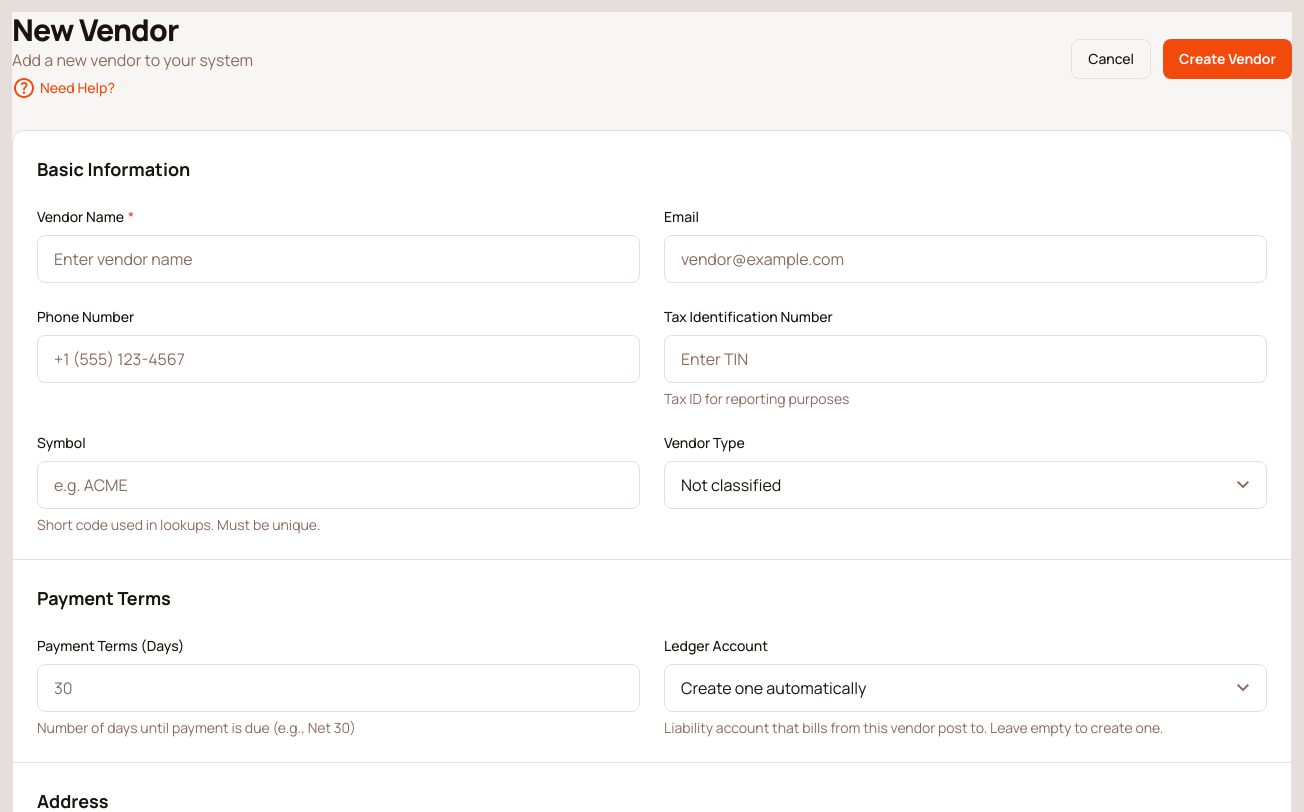
Test case: VendorFormPage domain fields (SOUPFIN-182) › validation › blocks saving with an invalid email
The image size is (1304, 812).
Type "Acme" into the field with test id "vendor-form-name" at {"x": 338, "y": 259}, box [37, 235, 640, 283]
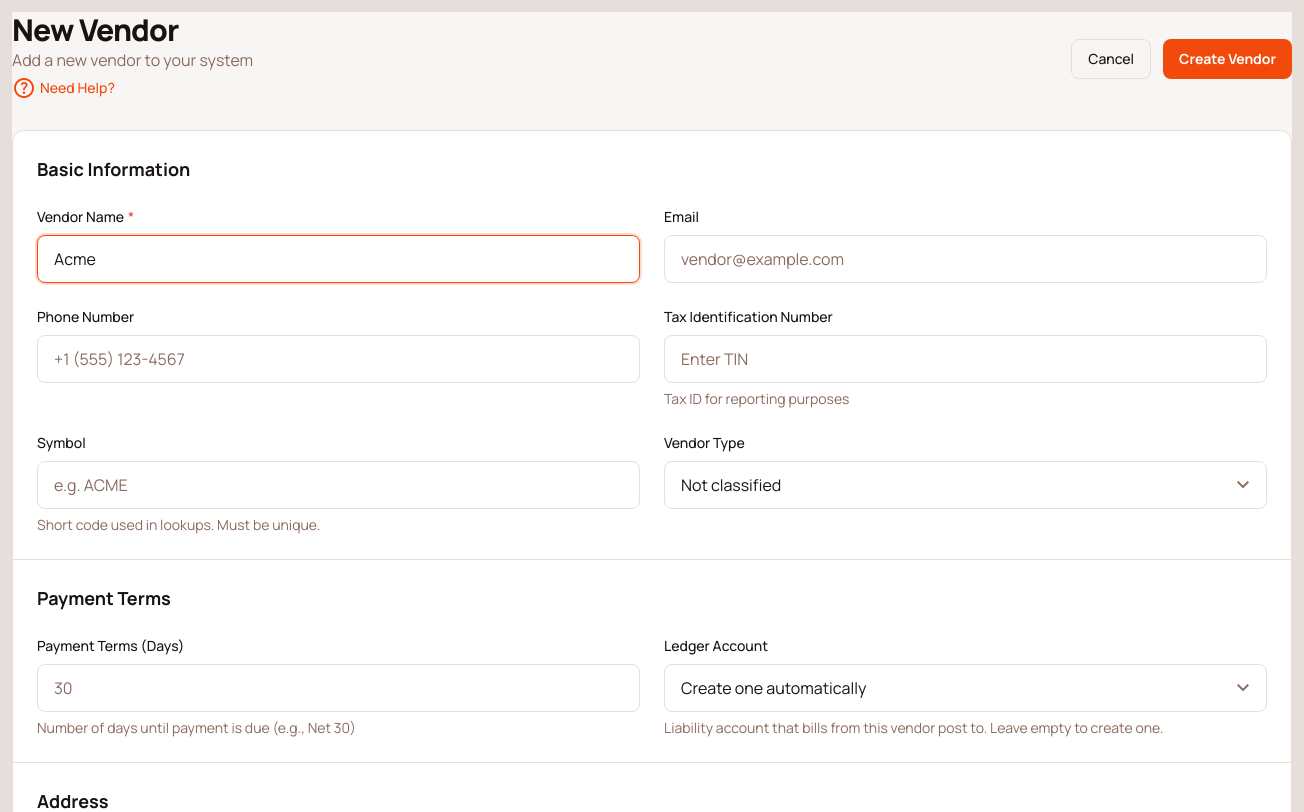
// paste, not type: typing 500 characters one by one is slow and proves nothing more
Click the field with test id "vendor-form-email" at {"x": 966, "y": 259}, box [664, 235, 1267, 283]
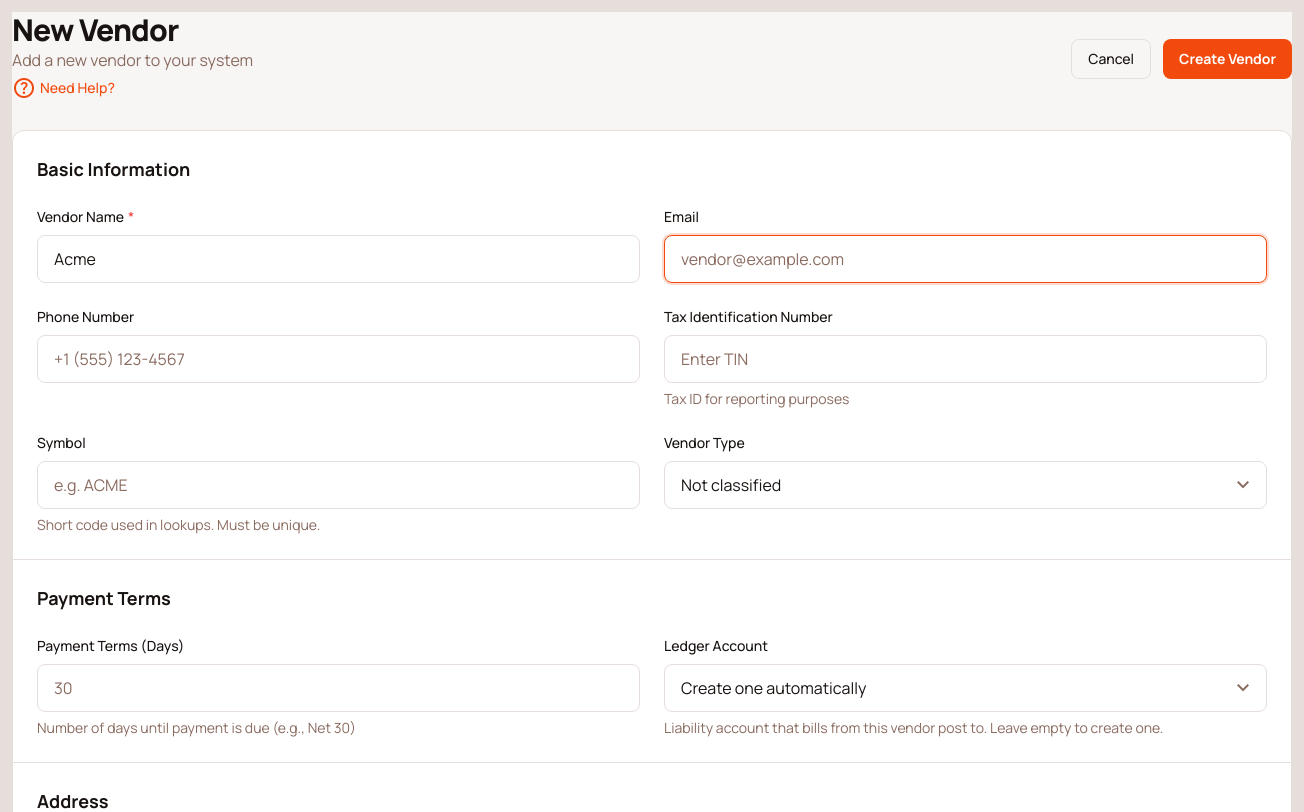
Type keys "not-an-email"
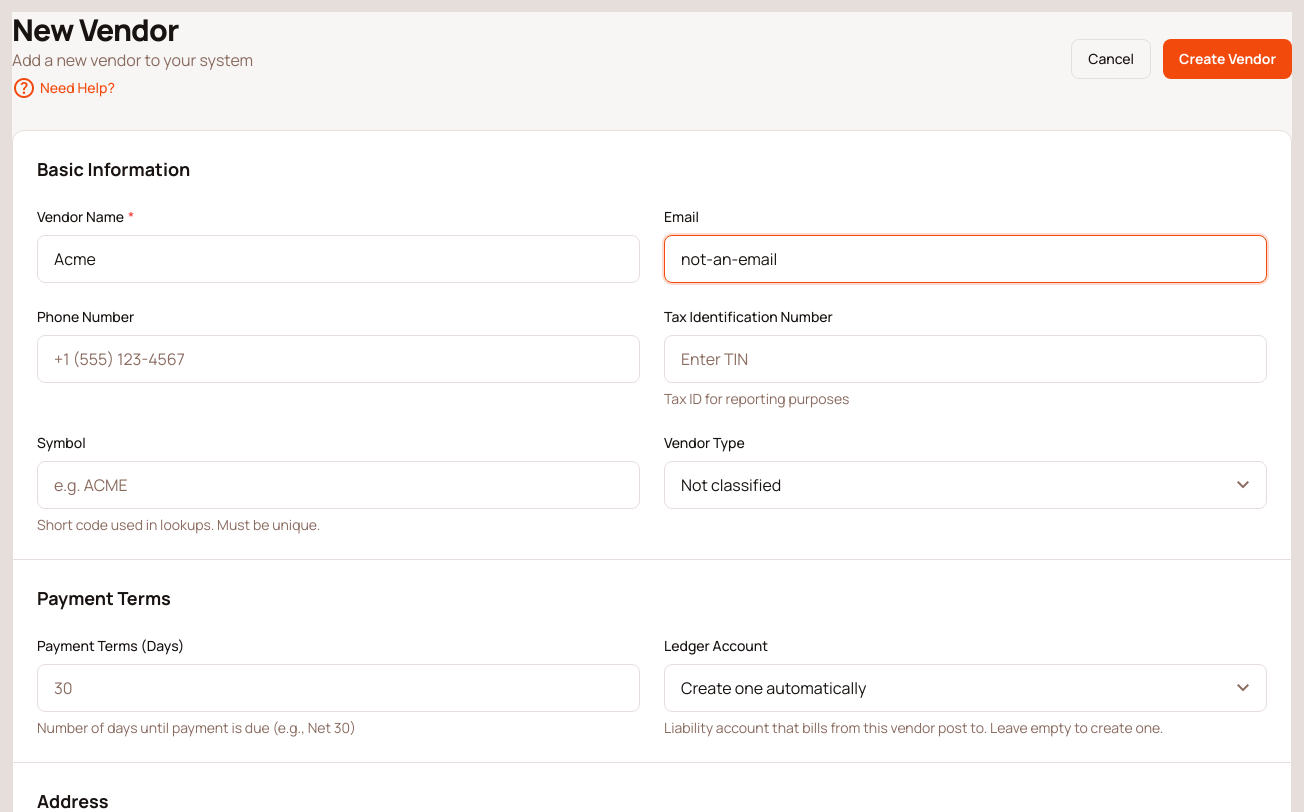
Click the button with test id "vendor-form-save" at {"x": 1228, "y": 59}, box [1163, 39, 1292, 79]
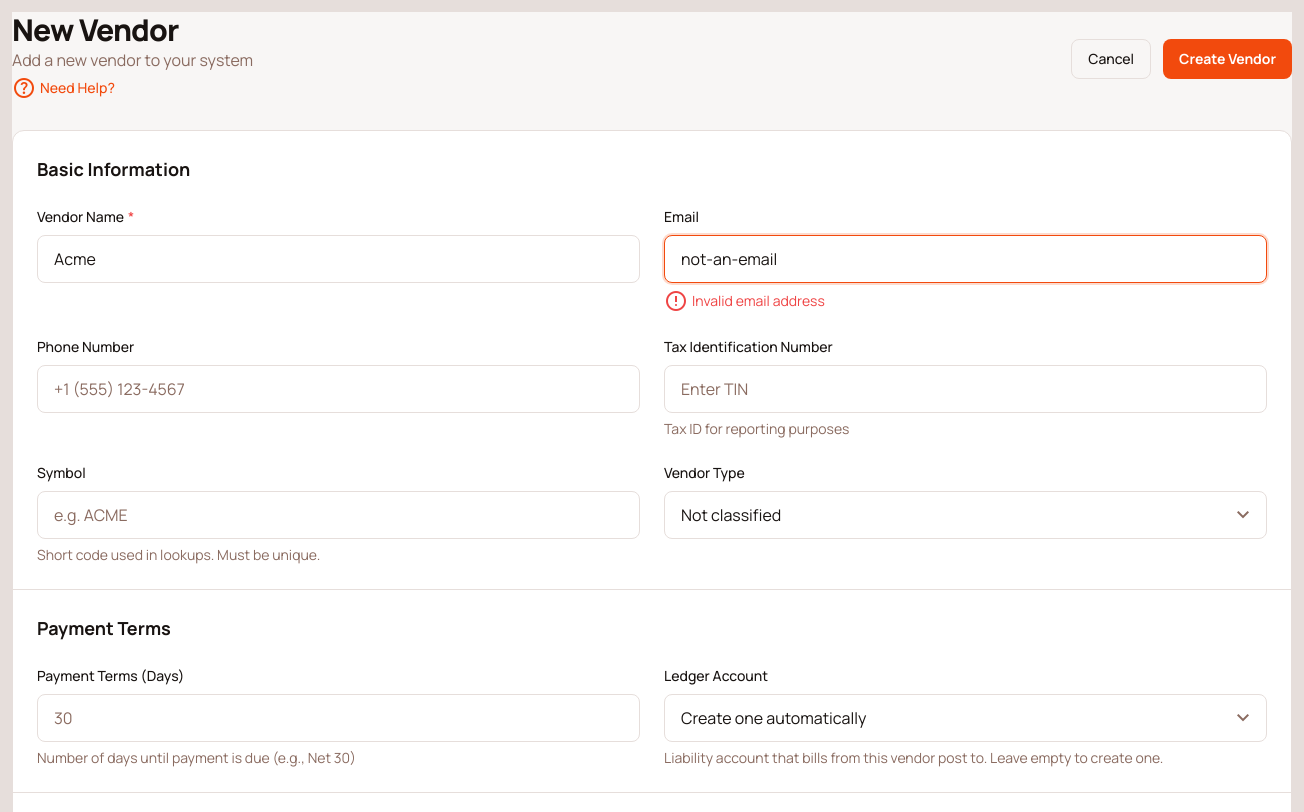
Now the text "Invalid email address" is shown, box [664, 287, 825, 315]
